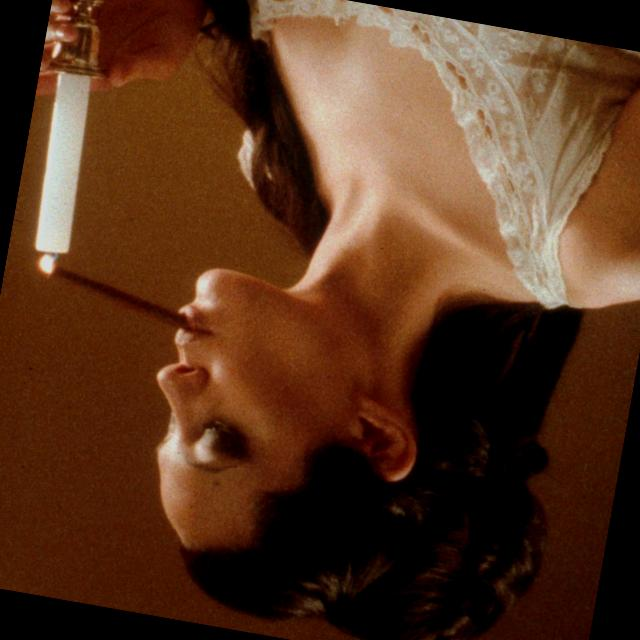smoke: (19, 248, 210, 354)
